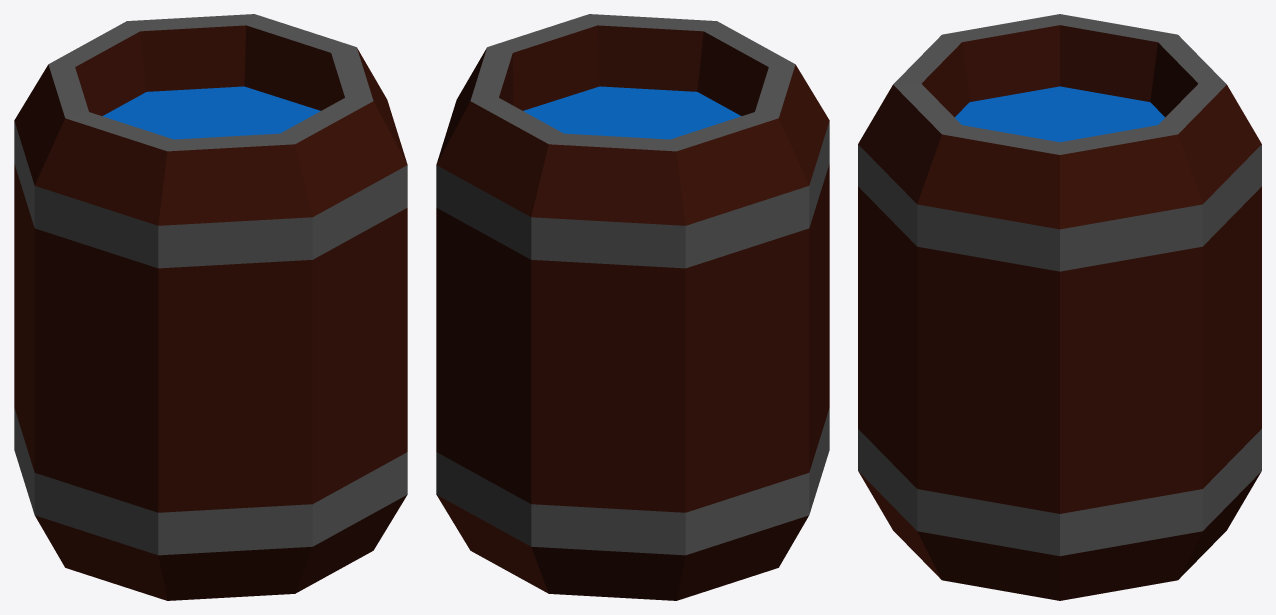
File: barrel_2.obj
3 views of the same model, side by side, from view 1: azimuth 30°, elevation 25°; view 2: azimuth 150°, elevation 25°; view 3: azimuth 270°, elevation 25° (orthographic).
Parts seen in each view (by area): view 1: barrel_2; view 2: barrel_2; view 3: barrel_2.
Part boxes in pixels (bbox=[...]): barrel_2: bbox=[14, 14, 407, 600]; barrel_2: bbox=[436, 14, 829, 600]; barrel_2: bbox=[858, 14, 1261, 600].
Bounding box in the file's own units: 0.285 × 0.3474 × 0.285.
